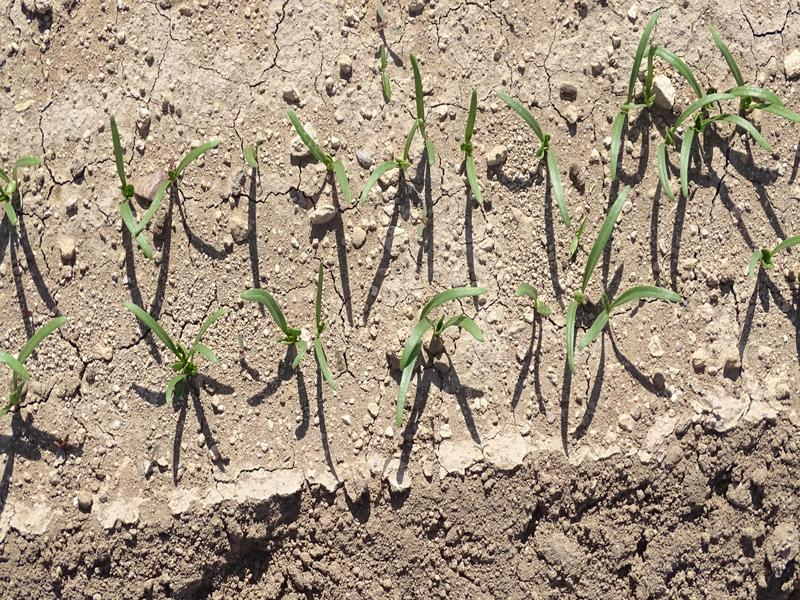Espinaca: (609, 17, 785, 189), (550, 191, 678, 369), (288, 61, 428, 197), (107, 124, 218, 253), (246, 264, 332, 394), (400, 288, 484, 420), (123, 303, 232, 403), (1, 314, 69, 393), (511, 103, 567, 189), (468, 103, 504, 216), (734, 232, 799, 277), (1, 151, 39, 224)
